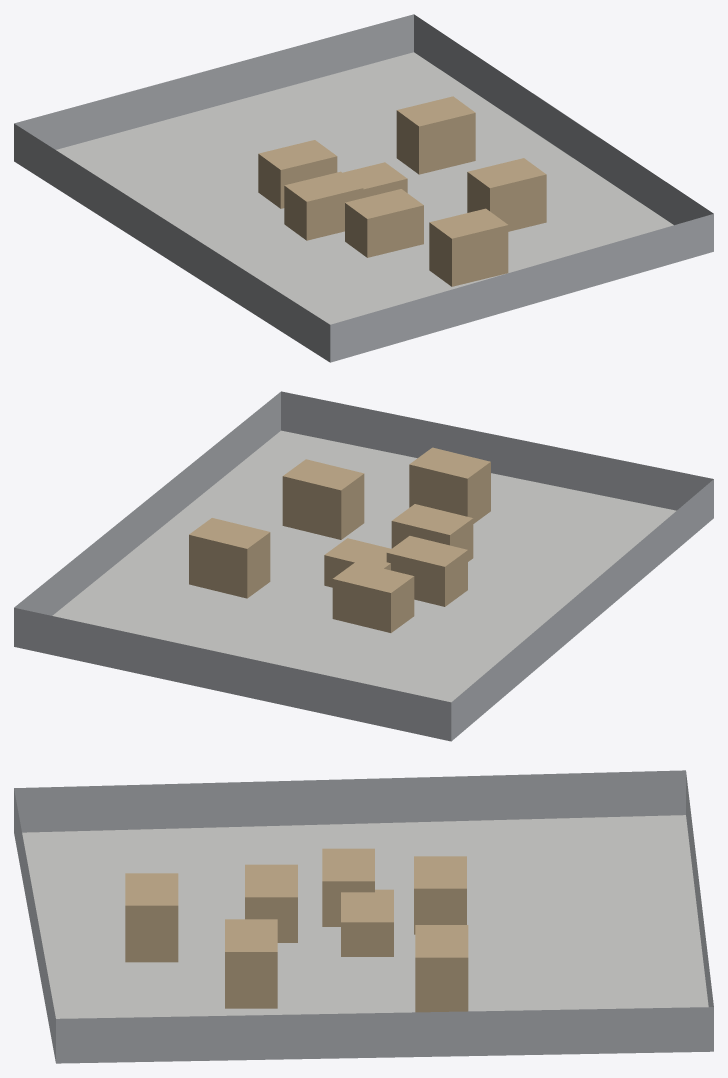
The model's file is scr.glb.
The picture shows the model from 3 angles, top to bottom: view 1: azimuth 30°, elevation 25°; view 2: azimuth 150°, elevation 25°; view 3: azimuth 270°, elevation 25°; orthographic projection. The views are drawn at different scales.
Visible parts, largest first — view 1: scr pad, scr fence, scr crates; view 2: scr pad, scr fence, scr crates; view 3: scr pad, scr fence, scr crates.
Part boxes in pixels (box(x1,y1,x2,y2)): scr pad: box(56, 52, 673, 324); scr fence: box(14, 14, 713, 362); scr crates: box(258, 96, 546, 286); scr pad: box(52, 430, 676, 702); scr fence: box(14, 391, 713, 741); scr crates: box(189, 447, 490, 632); scr pad: box(22, 815, 708, 1018); scr fence: box(14, 770, 713, 1063); scr crates: box(125, 848, 468, 1012).
Bounding box in the file's own units: 24.44 × 2.6 × 29.1.
